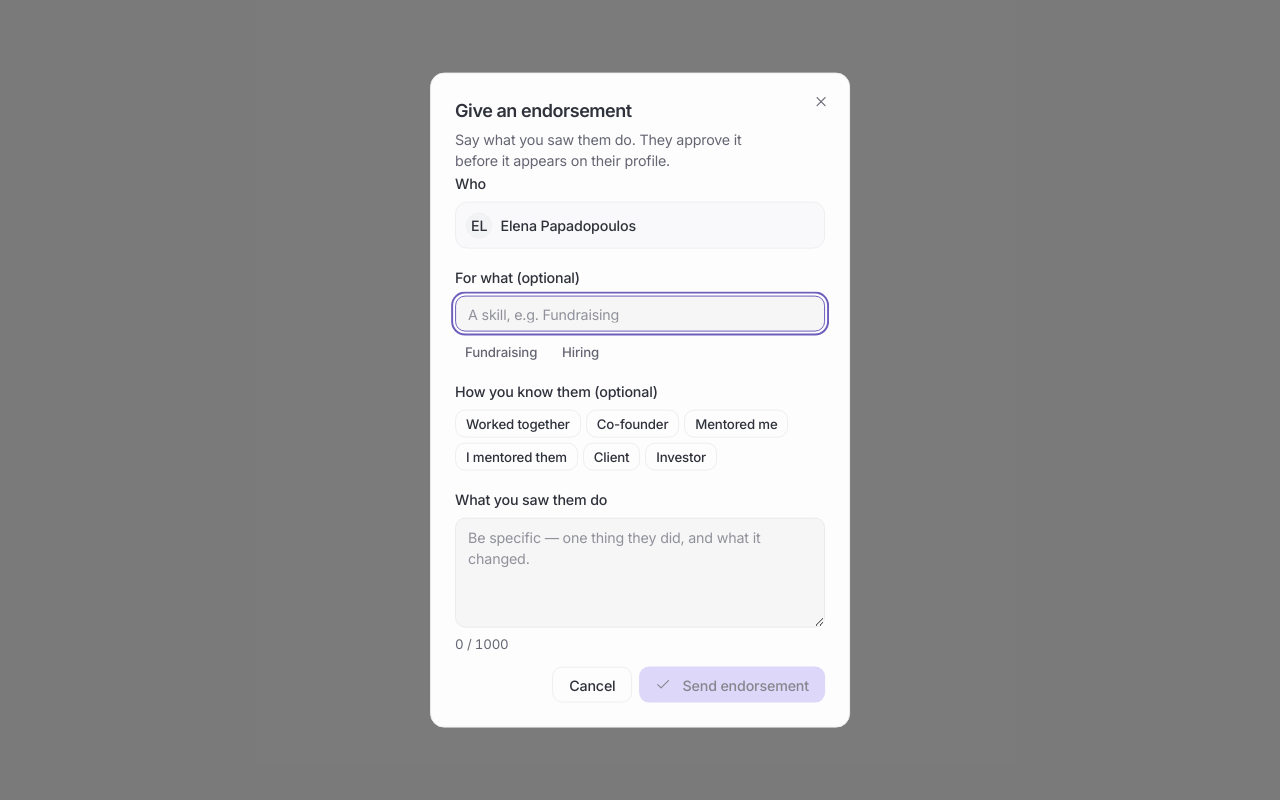
Scenario: writing an endorsement › counts what will be sent, not what was typed
Type "   Rebuilt onboarding.   " into the text box labelled "What you saw them do" at (640, 572), box [455,517,825,627]
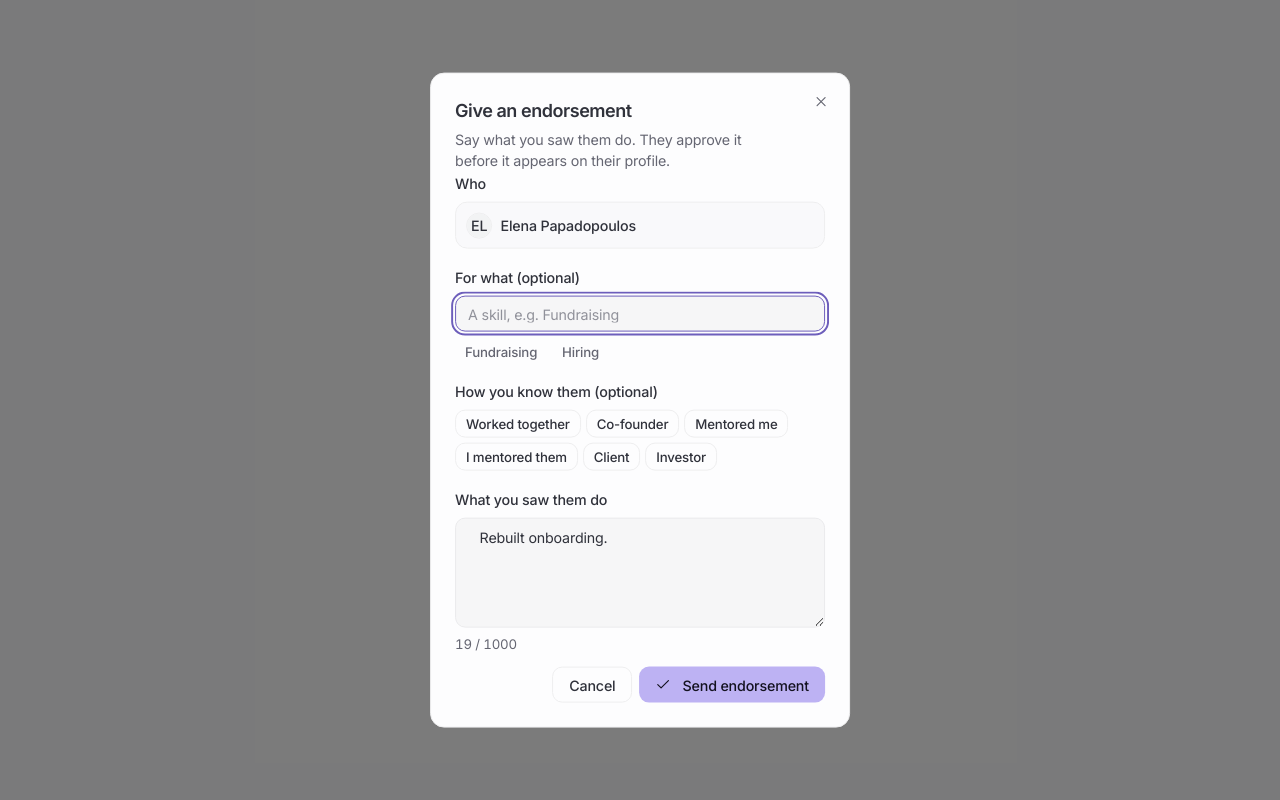
Result: the text "19 / 1000" is shown at [455,636,517,652]
